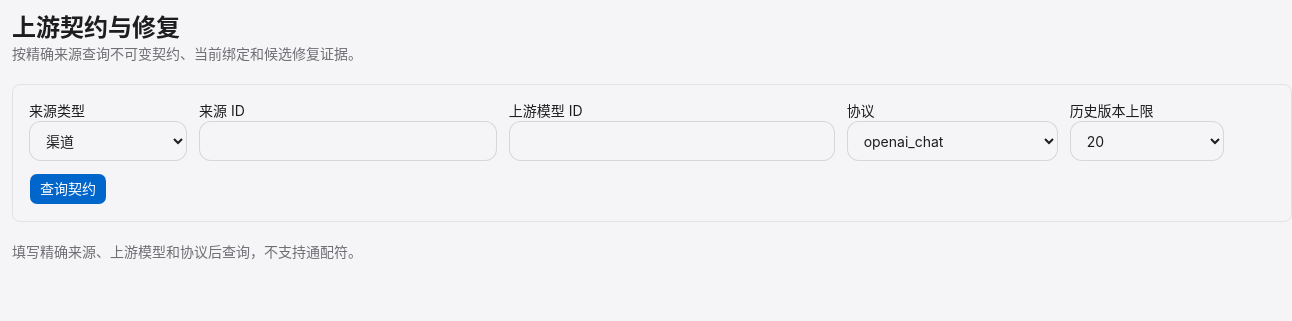
Test: upstream contract administration › starts without a scope and never sends a broad or paid probe request
Expected: the text "填写精确来源、上游模型和协议后查询，不支持通配符。" is shown, [12,243,362,260]
Click the button "查询契约": click(68, 189) [29,173,107,205]
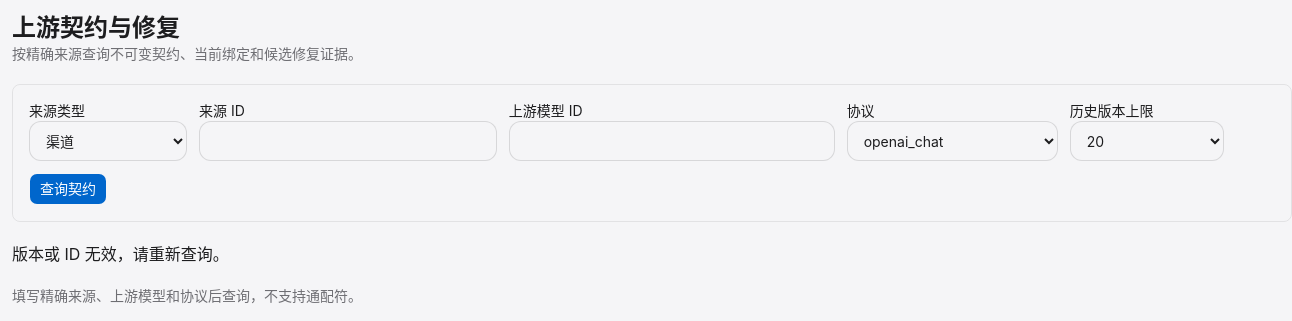
Expected: the message "版本或 ID 无效，请重新查询。" is shown, [12,244,229,264]
